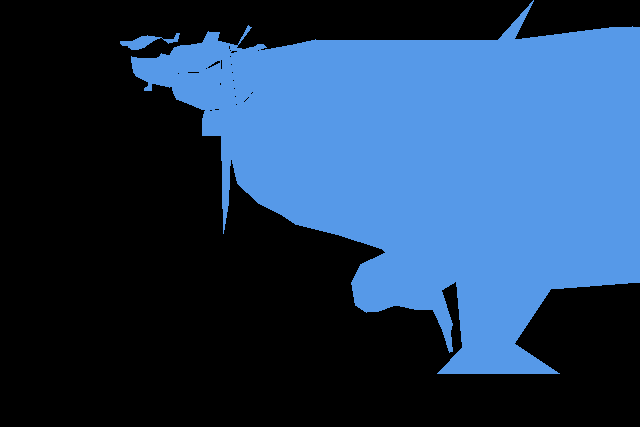Airplane: (202, 0, 640, 373), (131, 25, 252, 91), (163, 44, 271, 111), (120, 33, 180, 50)
